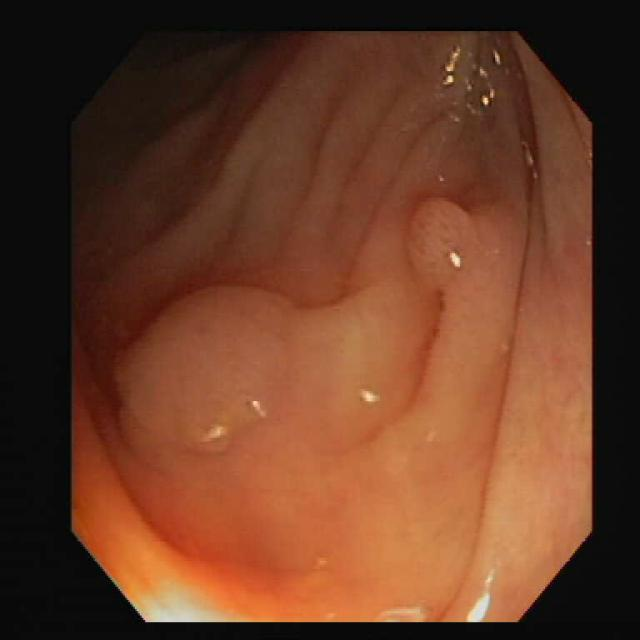tumor: (117, 289, 297, 427), (410, 198, 493, 284)
